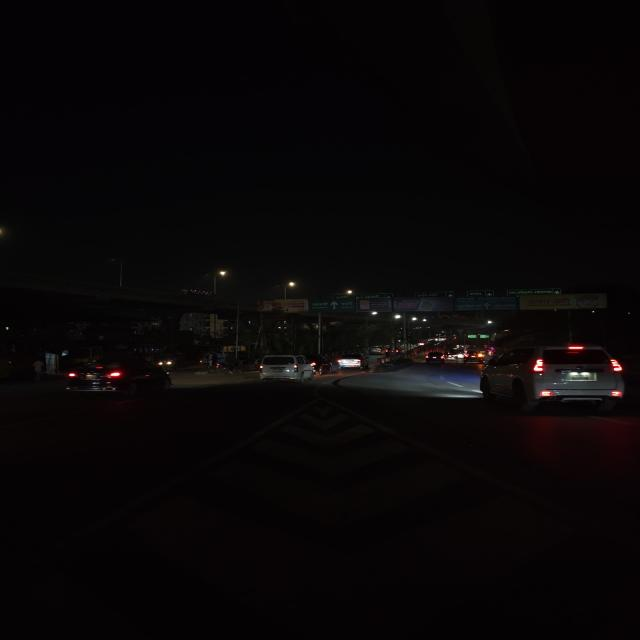car: (478, 342, 628, 413), (59, 356, 171, 396), (256, 352, 318, 384), (334, 351, 368, 371), (424, 351, 446, 365), (462, 352, 483, 364)
motorcycle: (211, 357, 248, 377)
